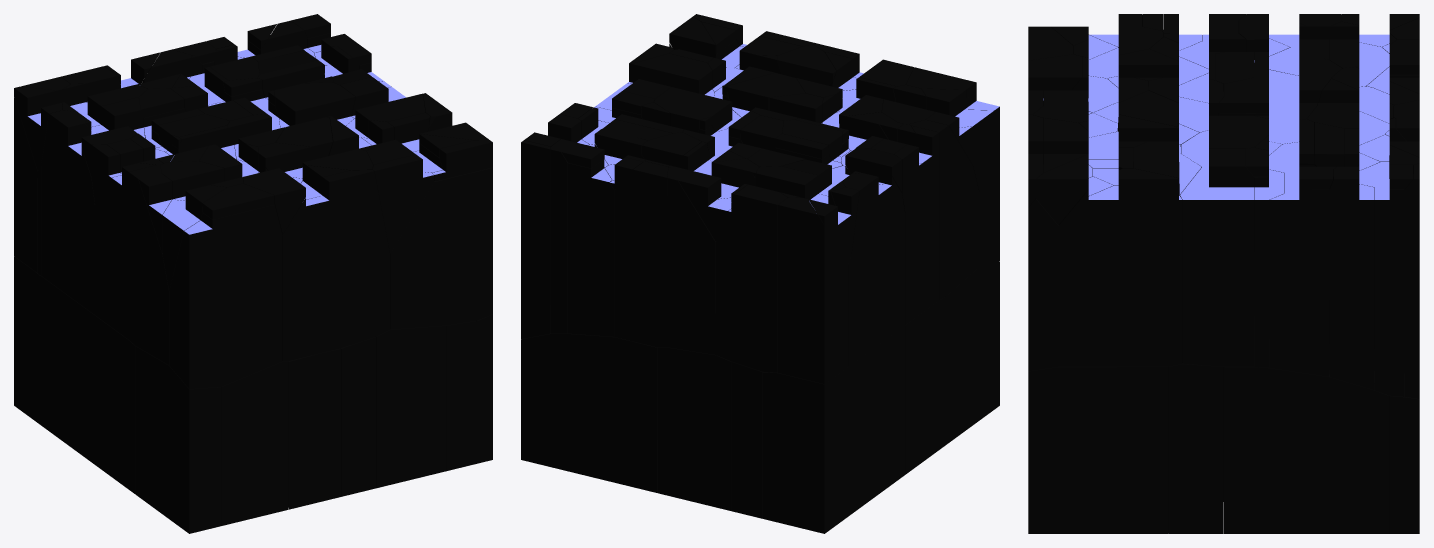
File: BreakableBlockSplited.fbx
The picture shows the model from 3 angles, left to right: view 1: azimuth 30°, elevation 25°; view 2: azimuth 150°, elevation 25°; view 3: azimuth 270°, elevation 25°; orthographic projection. The views are drawn at different scales.
Visible parts, largest first — view 1: Cube.006_cell.070, Cube.006_cell, Cube.006_cell.035, Cube.006_cell.054, Cube.006_cell.039, Cube.006_cell.058, Cube.006_cell.037, Cube.006_cell.084, Cube.006_cell.005, Cube.006_cell.008, Cube.006_cell.042, Cube.006_cell.020 (+49 smaller); view 2: Cube.006_cell.029, Cube.006_cell.096, Cube.006_cell.088, Cube.006_cell.063, Cube.006_cell.048, Cube.006_cell.009, Cube.006_cell.037, Cube.006_cell.003, Cube.006_cell.084, Cube.006_cell.054, Cube.006_cell.076, Cube.006_cell.008 (+48 smaller); view 3: Cube.006_cell.072, Cube.006_cell.082, Cube.006_cell.090, Cube.006_cell.012, Cube.006_cell.081, Cube.006_cell.023, Cube.006_cell.056, Cube.006_cell.073, Cube.006_cell.035, Cube.006_cell.029, Cube.006_cell.075, Cube.006_cell.041 (+52 smaller).
Part boxes in pixels (x1,y1,x2,y2): Cube.006_cell.070: [169, 204, 282, 389]; Cube.006_cell: [282, 170, 389, 361]; Cube.006_cell.035: [390, 143, 492, 329]; Cube.006_cell.054: [135, 346, 221, 533]; Cube.006_cell.039: [376, 325, 445, 488]; Cube.006_cell.058: [221, 361, 288, 525]; Cube.006_cell.037: [41, 110, 94, 314]; Cube.006_cell.084: [39, 275, 94, 464]; Cube.006_cell.005: [288, 348, 340, 509]; Cube.006_cell.008: [95, 315, 135, 494]; Cube.006_cell.042: [128, 165, 169, 364]; Cube.006_cell.020: [340, 337, 375, 496]; Cube.006_cell.029: [521, 331, 657, 492]; Cube.006_cell.096: [762, 366, 849, 533]; Cube.006_cell.088: [778, 197, 847, 383]; Cube.006_cell.063: [657, 347, 730, 510]; Cube.006_cell.048: [715, 184, 787, 372]; Cube.006_cell.009: [614, 161, 668, 347]; Cube.006_cell.037: [842, 173, 905, 363]; Cube.006_cell.003: [667, 158, 759, 354]; Cube.006_cell.084: [849, 325, 905, 514]; Cube.006_cell.054: [945, 261, 999, 444]; Cube.006_cell.076: [568, 159, 614, 336]; Cube.006_cell.008: [905, 297, 945, 474]; Cube.006_cell.072: [1224, 335, 1389, 533]; Cube.006_cell.082: [1028, 366, 1168, 533]; Cube.006_cell.090: [1058, 168, 1182, 366]; Cube.006_cell.012: [1180, 149, 1253, 366]; Cube.006_cell.081: [1269, 189, 1329, 376]; Cube.006_cell.023: [1329, 166, 1374, 389]; Cube.006_cell.056: [1168, 363, 1223, 533]; Cube.006_cell.073: [1374, 187, 1404, 396]; Cube.006_cell.035: [1028, 164, 1092, 371]; Cube.006_cell.029: [1374, 371, 1419, 533]; Cube.006_cell.075: [1404, 163, 1419, 398]; Cube.006_cell.041: [1254, 169, 1283, 367].
Size of the model in its own units: 200 by 200 by 200.
